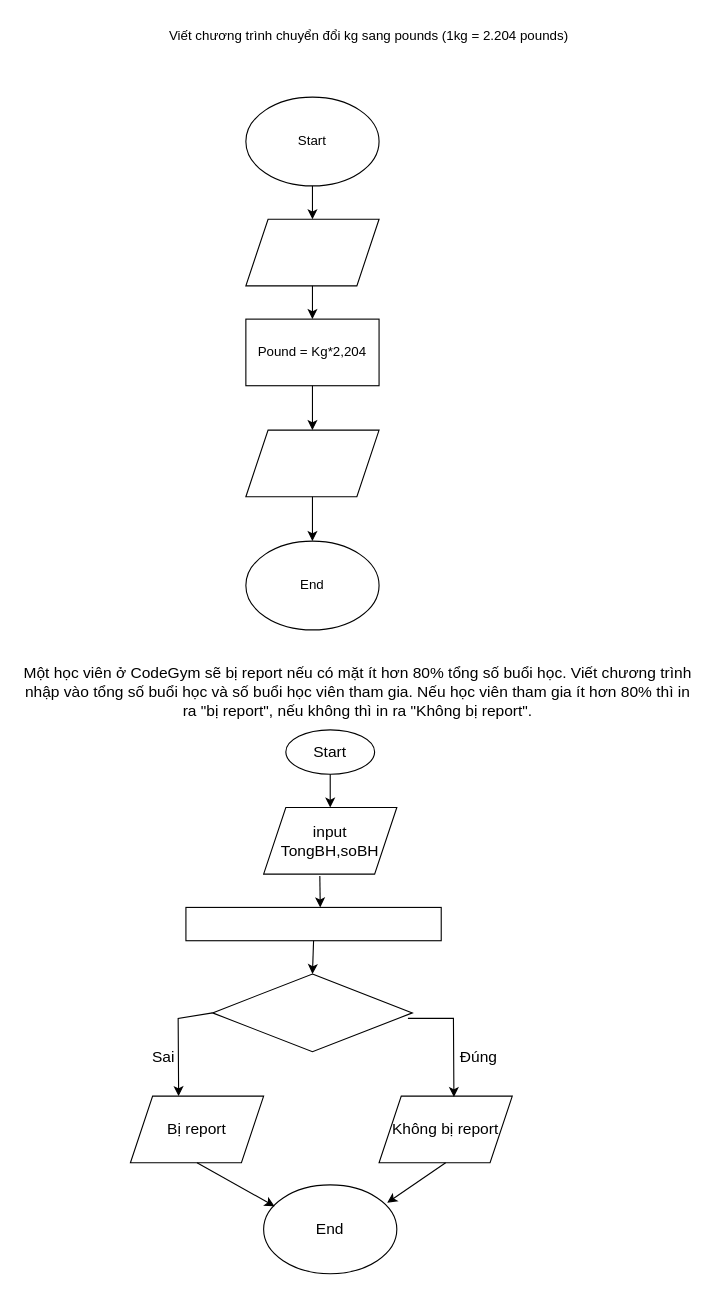
This 715x1293 diagram has some shape labels left out. The centre of each missing label's shape, as x and y in pixels:
"Input Kg" goes at pixel 312 252.
"Output Pound" goes at pixel 312 463.
"Tỉ lệ = TongBH/soBH*100" goes at pixel 313 923.
"Tỉ lệ > 80%" goes at pixel 311 1012.
